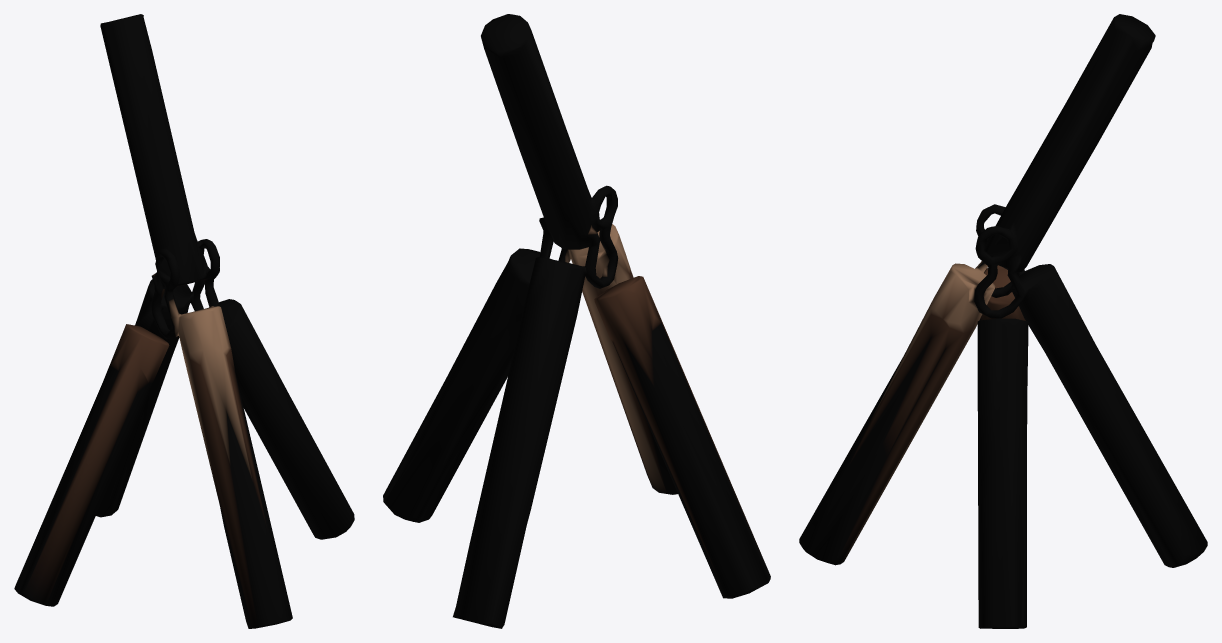
Rendered from gen3d-nunchaku-lod1.glb.
3 views of the same model, side by side, from view 1: azimuth 30°, elevation 25°; view 2: azimuth 150°, elevation 25°; view 3: azimuth 270°, elevation 25° (orthographic). The views are drawn at different scales.
Visible parts, largest first — view 1: part_0; view 2: part_0; view 3: part_0.
Boxes of the visible parts, x1,y1,x2,y2 form: part_0: (14, 14, 354, 628); part_0: (383, 14, 770, 628); part_0: (799, 14, 1207, 628).
Bounding box in the file's own units: 0.6767 × 0.9983 × 0.6784.
